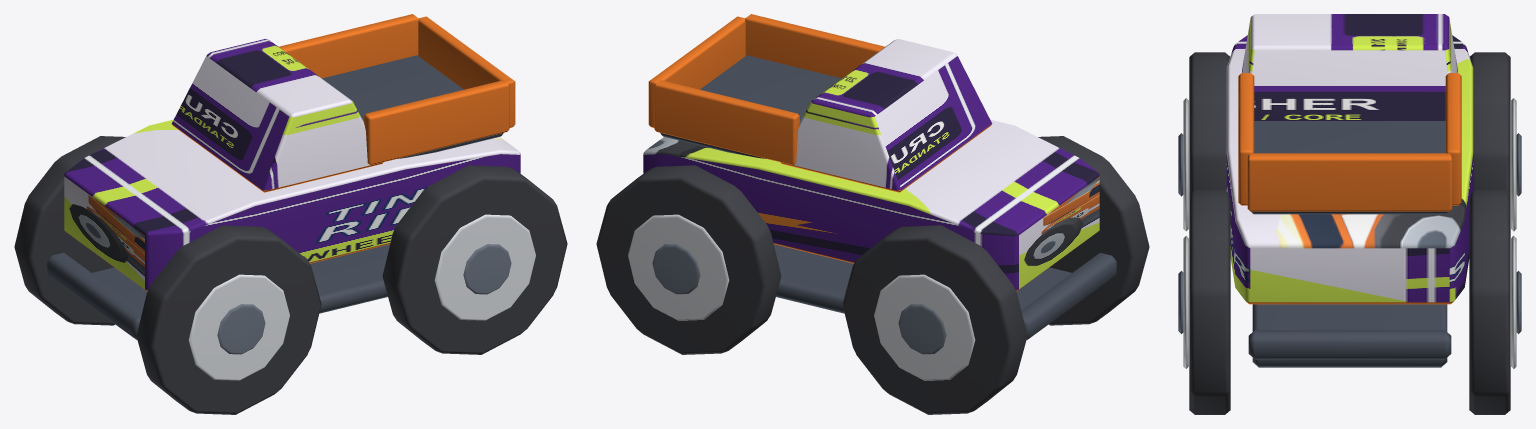
3 renders of one model, left to right at view 1: azimuth 30°, elevation 25°; view 2: azimuth 150°, elevation 25°; view 3: azimuth 270°, elevation 25°, orthographic. The views are drawn at different scales.
Visible parts, largest first — view 1: BW-01_connected_shell, BW-01_cabin, Tire, Tire.002, Tire.001, cargo side, Rim, Rim.002, cargo side.001, cargo floor, underbody, cargo tail (+3 smaller); view 2: BW-01_connected_shell, BW-01_cabin, Tire.001, Tire.003, Tire, cargo side.001, Rim.001, Rim.003, cargo side, cargo floor, underbody, cargo tail (+3 smaller); view 3: BW-01_connected_shell, BW-01_cabin, cargo tail, Tire.002, Tire.003, cargo floor, underbody, rear bumper, Tire, Tire.001, cargo side, cargo side.001 (+8 smaller).
Boxes of the visible parts, left/top/right/bottom form: BW-01_connected_shell: left=64, top=119, right=520, bottom=291; BW-01_cabin: left=171, top=38, right=382, bottom=192; Tire: left=136, top=225, right=321, bottom=414; Tire.002: left=382, top=165, right=567, bottom=354; Tire.001: left=14, top=136, right=125, bottom=325; cargo side: left=364, top=80, right=509, bottom=165; Rim: left=188, top=274, right=289, bottom=380; Rim.002: left=434, top=214, right=535, bottom=320; cargo side.001: left=279, top=14, right=418, bottom=78; cargo floor: left=322, top=55, right=503, bottom=158; underbody: left=92, top=244, right=389, bottom=313; cargo tail: left=418, top=16, right=515, bottom=127; BW-01_connected_shell: left=643, top=119, right=1099, bottom=291; BW-01_cabin: left=781, top=38, right=992, bottom=192; Tire.001: left=842, top=225, right=1027, bottom=414; Tire.003: left=596, top=165, right=781, bottom=354; Tire: left=1038, top=136, right=1149, bottom=325; cargo side.001: left=654, top=80, right=799, bottom=165; Rim.001: left=874, top=274, right=975, bottom=380; Rim.003: left=628, top=214, right=729, bottom=320; cargo side: left=745, top=14, right=884, bottom=78; cargo floor: left=660, top=55, right=841, bottom=158; underbody: left=774, top=244, right=1071, bottom=313; cargo tail: left=648, top=16, right=745, bottom=127; BW-01_connected_shell: left=1226, top=35, right=1473, bottom=304; BW-01_cabin: left=1242, top=14, right=1457, bottom=120; cargo tail: left=1247, top=153, right=1452, bottom=211; Tire.002: left=1189, top=190, right=1230, bottom=414; Tire.003: left=1469, top=190, right=1510, bottom=414; cargo floor: left=1251, top=121, right=1448, bottom=214; underbody: left=1252, top=304, right=1447, bottom=367; rear bumper: left=1248, top=330, right=1451, bottom=359; Tire: left=1189, top=52, right=1229, bottom=194; Tire.001: left=1470, top=52, right=1510, bottom=194; cargo side: left=1238, top=73, right=1254, bottom=205; cargo side.001: left=1445, top=73, right=1461, bottom=205.
Bounding box in the file's own units: 350 × 210 × 217.
